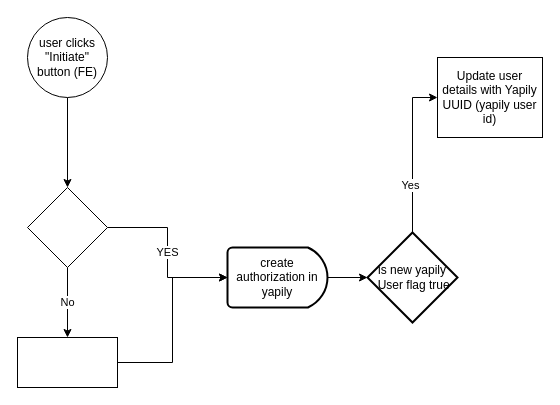
Image size: 560x405. Some labels were removed from this diagram. The centre of each missing label's shape, as x and y in pixels:
"Is user present in Yapily?" goes at (x=67, y=227).
"Set newYapilyUser flag to true" goes at (x=67, y=362).
